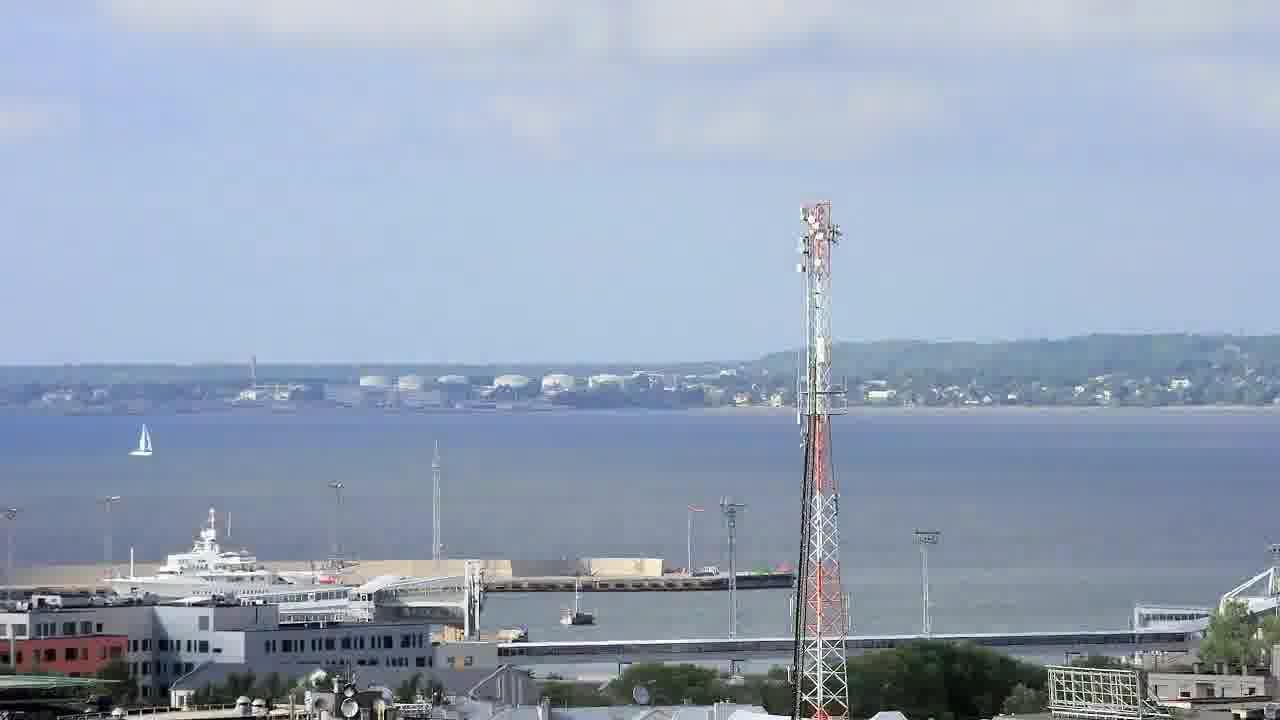type-0: (545, 587, 613, 631)
type-2: (116, 413, 173, 463)
type-3: (98, 503, 361, 603)
